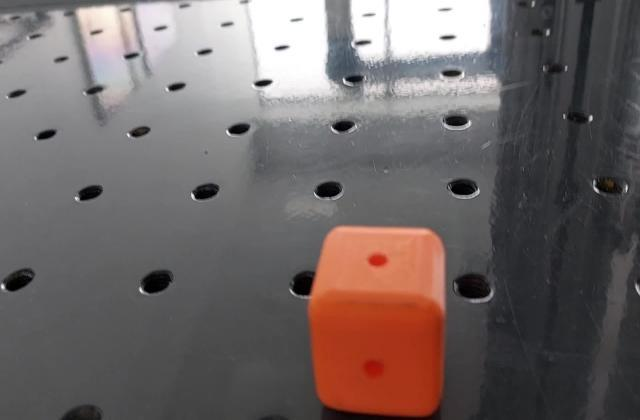cube: (308, 224, 450, 420)
